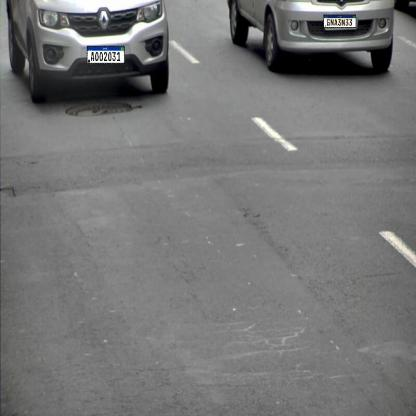PlacaM: (87, 46, 125, 64), (324, 14, 356, 28)
